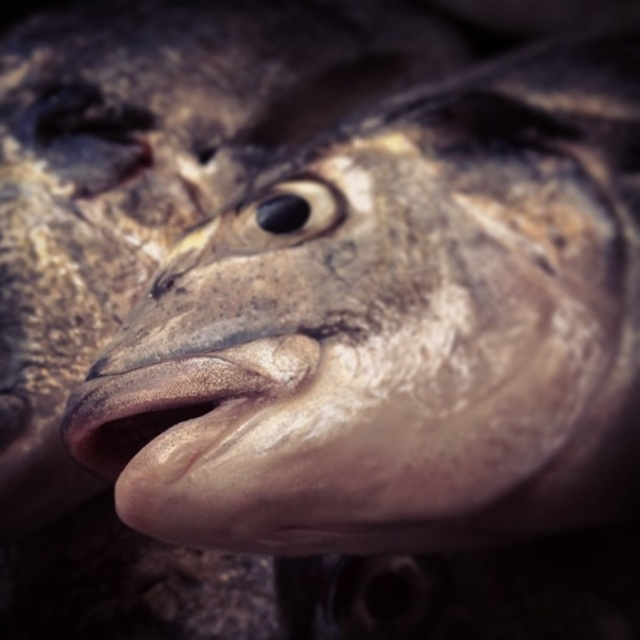Fish: (24, 36, 633, 579)
